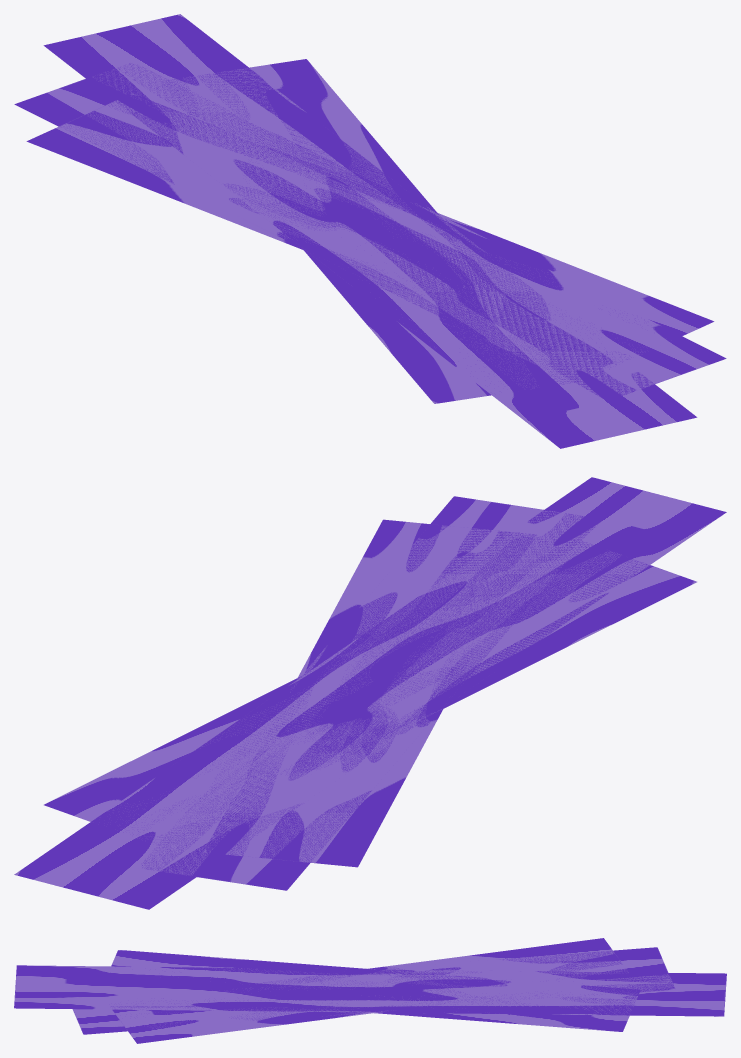
The model's file is grass.glb.
The picture shows the model from 3 angles, top to bottom: view 1: azimuth 30°, elevation 25°; view 2: azimuth 150°, elevation 25°; view 3: azimuth 270°, elevation 25°; orthographic projection. The views are drawn at different scales.
Parts seen in each view (by area): view 1: GrassBlade0; view 2: GrassBlade0; view 3: GrassBlade0.
Part boxes in pixels (x1,y1,x2,y2): GrassBlade0: (14,14,726,448); GrassBlade0: (14,477,726,909); GrassBlade0: (14,938,726,1043).
Size of the model in its own units: 0.2458 by 0 by 0.6989.
Materials: 1 (1 with a texture image).
